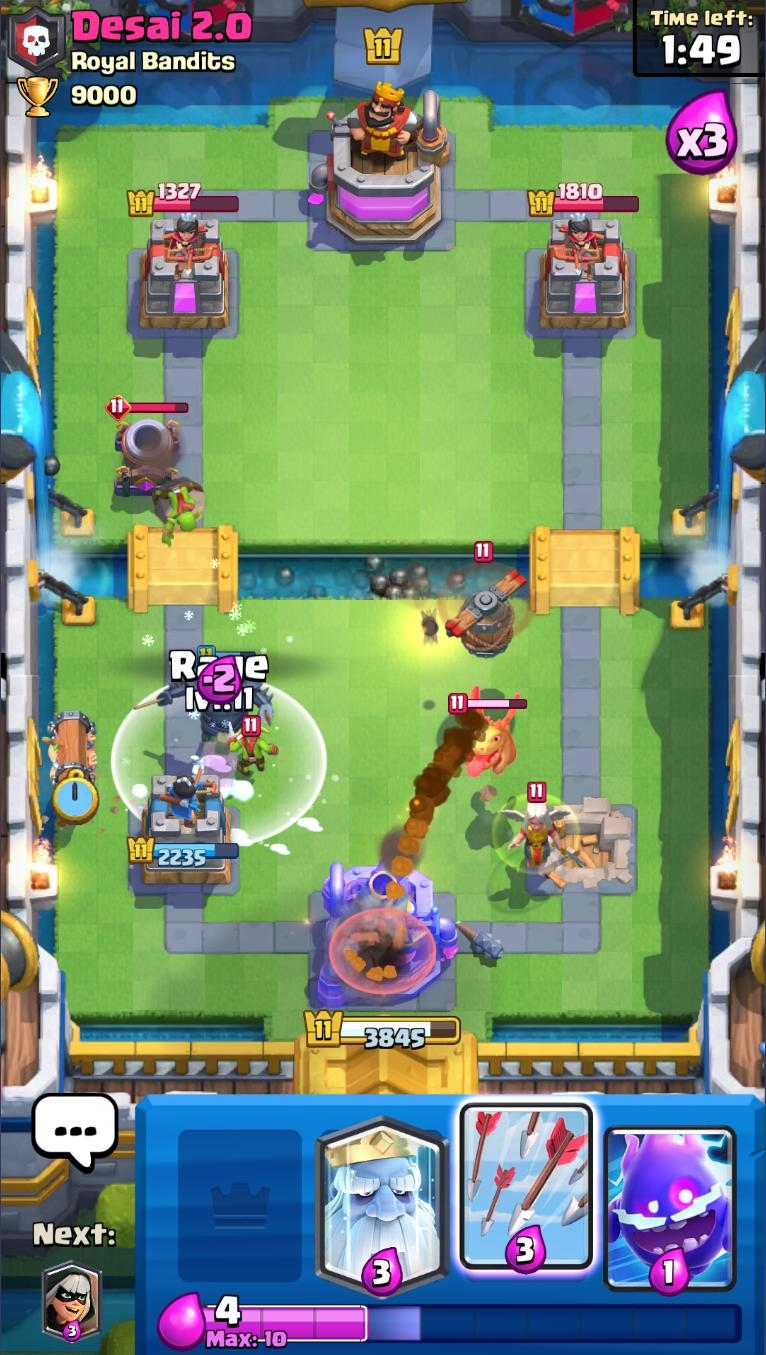ArrowDeck: (455, 1099, 598, 1295)
BabyDragon: (449, 684, 528, 779)
BanditNext: (41, 1262, 105, 1343)
ElectroSpiritDeck: (597, 1097, 742, 1298)
Elixir: (203, 1296, 744, 1351)
Empty: (166, 1096, 312, 1295)
EnemyTower: (135, 216, 234, 331), (537, 216, 633, 333)
EvoMortar: (104, 393, 189, 499)
FlyingMachine: (437, 540, 532, 669)
Goblin: (226, 717, 275, 775)
Healer: (492, 782, 580, 876)
KingTower: (307, 78, 453, 247)
MyBattleRam: (49, 708, 98, 835)
MyKingHP: (302, 1010, 462, 1053)
MyKingTower: (315, 859, 460, 1009)
MyPekka: (131, 645, 281, 747)
MyPrincessTower: (128, 772, 242, 890)
MyPrincessTowerBrocken: (526, 798, 641, 900)
MyPrincessTowerHP: (127, 836, 241, 869)
RoyaleGhostDeck: (310, 1095, 451, 1290)
TowerPrincessHP: (528, 182, 640, 219), (128, 182, 241, 218)
